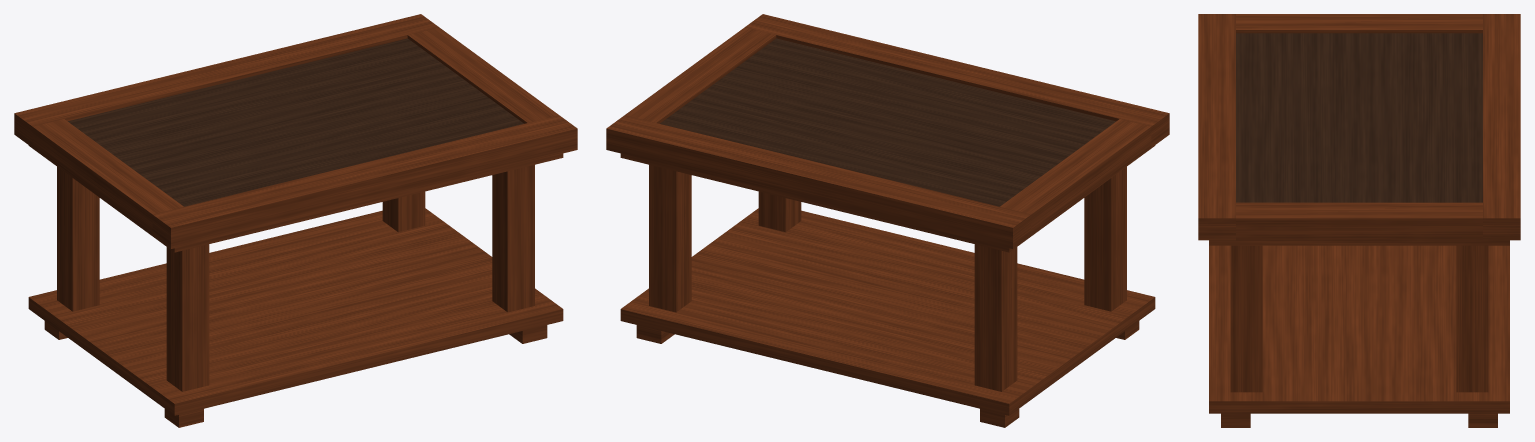
Rendered from mesa-ratona.glb.
3 views of the same model, side by side, from view 1: azimuth 30°, elevation 25°; view 2: azimuth 150°, elevation 25°; view 3: azimuth 270°, elevation 25° (orthographic). The views are drawn at different scales.
Bounding box in the file's own units: 0.9 × 0.45 × 0.6.
2 materials, 2 textured.
